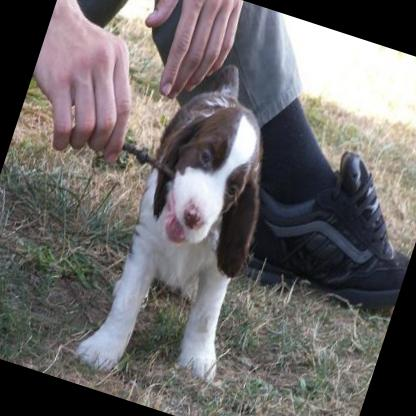English_springer: (69, 42, 308, 408)
